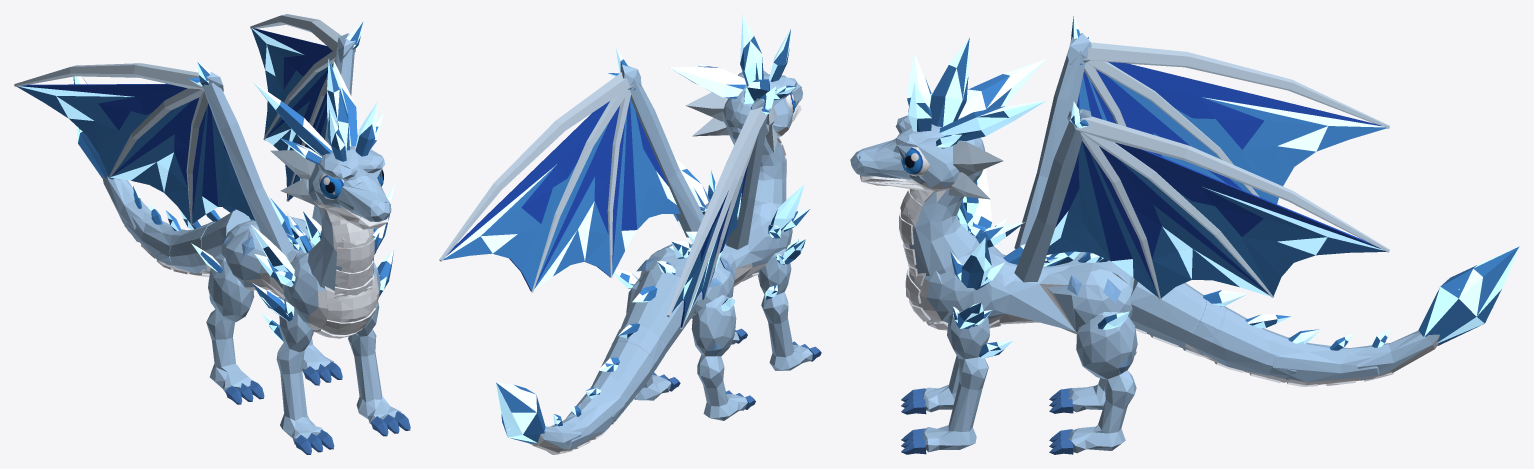
File: frost_adult.glb
3 renders of one model, left to right at view 1: azimuth 30°, elevation 25°; view 2: azimuth 150°, elevation 25°; view 3: azimuth 270°, elevation 25°, orthographic. The views are drawn at different scales.
Parts seen in each view (by area): view 1: wing_R_tip, head, body, wing_L_tip, wing_R, leg_FR, leg_BR, neck, leg_FL, tail_4, tail_2, tail_3 (+4 smaller); view 2: wing_L_tip, head, body, wing_R_tip, wing_L, leg_BR, tail_1, leg_FR, tail_4, tail_2, wing_R, tail_3 (+2 smaller); view 3: wing_L_tip, wing_R_tip, body, head, wing_L, tail_4, leg_BL, leg_FL, neck, tail_2, tail_1, tail_3 (+3 smaller).
Part boxes in pixels (left/top/right/bottom): wing_R_tip: left=14, top=62, right=223, bottom=225; head: left=253, top=58, right=391, bottom=221; body: left=221, top=184, right=394, bottom=338; wing_L_tip: left=250, top=14, right=363, bottom=201; wing_R: left=204, top=83, right=293, bottom=255; leg_FR: left=252, top=283, right=334, bottom=454; leg_BR: left=191, top=243, right=264, bottom=404; neck: left=307, top=207, right=374, bottom=298; leg_FL: left=348, top=249, right=410, bottom=436; tail_4: left=73, top=65, right=150, bottom=242; tail_2: left=159, top=209, right=215, bottom=276; tail_3: left=126, top=203, right=186, bottom=270; wing_L_tip: left=439, top=47, right=641, bottom=292; head: left=669, top=14, right=802, bottom=153; body: left=636, top=157, right=810, bottom=318; wing_R_tip: left=667, top=86, right=775, bottom=328; wing_L: left=630, top=77, right=703, bottom=237; leg_BR: left=691, top=295, right=755, bottom=420; tail_1: left=611, top=270, right=698, bottom=369; leg_FR: left=758, top=238, right=821, bottom=370; tail_4: left=496, top=382, right=581, bottom=454; tail_2: left=585, top=326, right=664, bottom=424; wing_R: left=723, top=106, right=767, bottom=249; tail_3: left=563, top=388, right=624, bottom=451; wing_L_tip: left=1067, top=101, right=1389, bottom=299; wing_R_tip: left=1067, top=14, right=1389, bottom=203; body: left=905, top=168, right=1134, bottom=334; head: left=850, top=37, right=1045, bottom=199; wing_L: left=1014, top=119, right=1110, bottom=282; tail_4: left=1355, top=246, right=1519, bottom=381; leg_BL: left=1049, top=311, right=1137, bottom=454; leg_FL: left=901, top=302, right=1012, bottom=454; neck: left=899, top=170, right=1000, bottom=277; tail_2: left=1184, top=300, right=1319, bottom=383; tail_1: left=1130, top=279, right=1247, bottom=358; tail_3: left=1267, top=334, right=1379, bottom=386.
Bounding box in the file's own units: 12.14 × 17.65 × 27.39.
10 materials, 1 textured.
